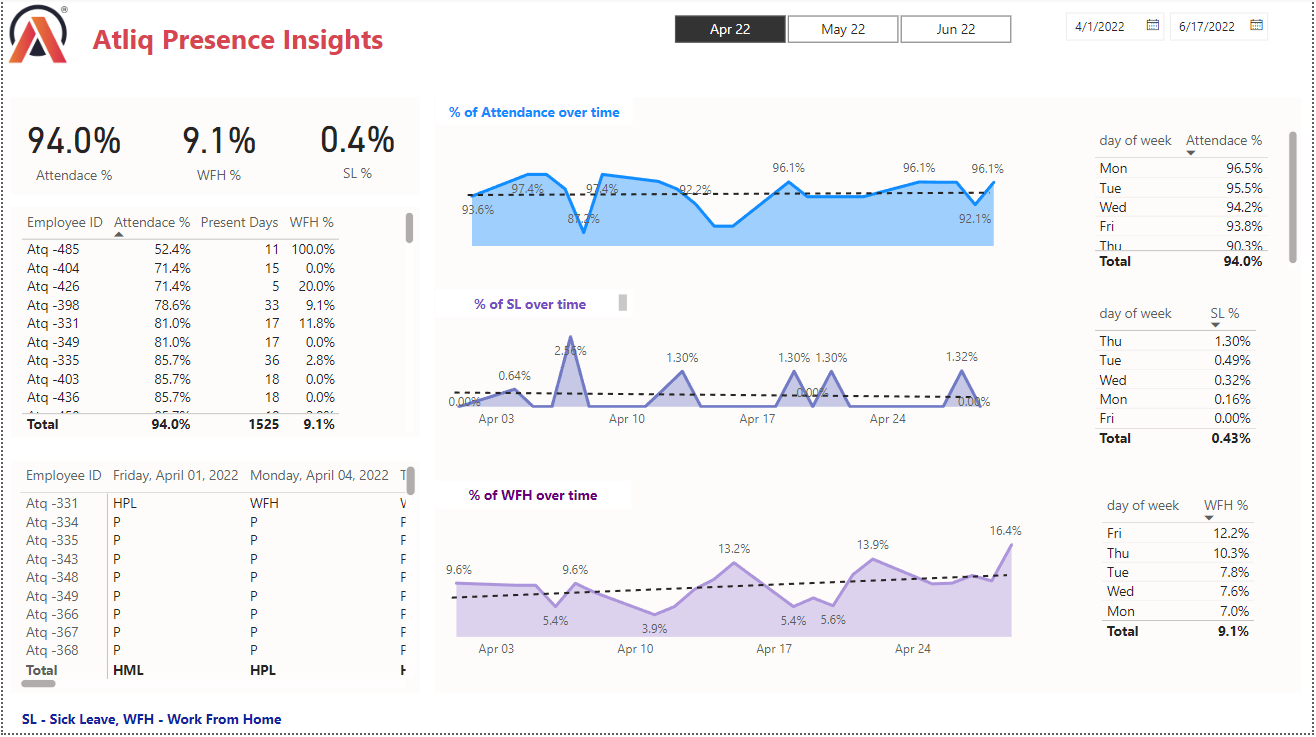

Layout of this report page (visuals, bound fields, positions):
{"tool":"powerbi","page":{"name":"Presence Insights","canvas":[1280,720],"ordinal":0},"visuals":[{"type":"textbox","box":[7.8,205.6,399.9,225.5],"z":0},{"type":"textbox","box":[7.8,453.3,399.8,227.6],"z":1000},{"type":"textbox","box":[422.3,97.9,848.1,582.3],"z":2000},{"type":"textbox","box":[7.8,98,399.9,95.4],"z":3000},{"type":"tableEx","fields":{"Values":["Final Data.Employee ID","Measures (2).Attendace %","Measures (2).Present Days","Measures (2).WFH %"]},"box":[12.6,205.2,394.9,225.7],"z":4000},{"type":"slicer","fields":{"Values":["Final Data.Date"]},"box":[1027.3,5.2,252.7,46.3],"z":5000},{"type":"slicer","fields":{"Values":["Final Data.MMM YY"]},"box":[630.4,10.5,379.5,35.8],"z":6000},{"type":"areaChart","fields":{"Category":["Final Data.MMM YY","Final Data.Date"],"Y":["Measures (2).WFH %"]},"box":[420.7,502.3,589,153.5],"z":7000},{"type":"areaChart","fields":{"Category":["Final Data.WeekNo","Final Data.Date"],"Y":["Measures (2).Attendace %"]},"box":[444.1,144.9,540.4,103.2],"z":8000},{"type":"card","fields":{"Values":["Measures (2).Attendace %"]},"box":[7.8,98,124,96.3],"z":9000},{"type":"card","fields":{"Values":["Measures (2).WFH %"]},"box":[141.4,98,138.8,96.3],"z":10000},{"type":"areaChart","fields":{"Category":["Final Data.MMM YY","Final Data.Date"],"Y":["Measures (2).SL %"]},"box":[422.5,307.1,556,124],"z":11000},{"type":"image","box":[0,0,70,71],"z":12000},{"type":"card","fields":{"Values":["Measures (2).SL %"]},"box":[286.3,97.2,121.4,96.3],"z":13000},{"type":"textbox","box":[70.3,0,320.1,71.1],"z":14000},{"type":"textbox","box":[422.4,98.2,192.5,27.5],"z":15000},{"type":"textbox","box":[422.5,286.3,192.6,26.9],"z":16000},{"type":"textbox","box":[422.1,473.7,192.6,27.2],"z":17000},{"type":"pivotTable","fields":{"Rows":["Final Data.Employee ID"],"Columns":["Final Data.Date"],"Values":["Min(Final Data.Value)"]},"box":[11.7,453.3,395.9,227.6],"z":18000},{"type":"textbox","box":[13.6,691.6,289.8,28.2],"z":19000},{"type":"tableEx","fields":{"Values":["Final Data.day of week","Measures (2).Attendace %"]},"box":[1060.9,125.8,209.9,145.7],"z":20000},{"type":"tableEx","fields":{"Values":["Final Data.day of week","Measures (2).SL %"]},"box":[1060.9,294.1,191.7,167.4],"z":21000},{"type":"tableEx","fields":{"Values":["Final Data.day of week","Measures (2).WFH %"]},"box":[1068.7,483.2,170,167.4],"z":22000}]}

Visuals, with their boxes in screenshot pixels (x1, y1, x2, y2), scaled from the page's 1280x720 canvas onto the 1316x737 screenshot:
textbox: region(8, 210, 419, 441)
textbox: region(8, 464, 419, 697)
textbox: region(434, 100, 1306, 696)
textbox: region(8, 100, 419, 198)
tableEx - Final Data.Employee ID x Measures (2).Attendace %: region(13, 210, 419, 441)
slicer - Final Data.Date: region(1056, 5, 1315, 53)
slicer - Final Data.MMM YY: region(648, 11, 1038, 47)
areaChart - Final Data.MMM YY x Final Data.Date: region(433, 514, 1038, 671)
areaChart - Final Data.WeekNo x Final Data.Date: region(457, 148, 1012, 254)
card - Measures (2).Attendace %: region(8, 100, 136, 199)
card - Measures (2).WFH %: region(145, 100, 288, 199)
areaChart - Final Data.MMM YY x Final Data.Date: region(434, 314, 1006, 441)
image: region(0, 0, 72, 73)
card - Measures (2).SL %: region(294, 99, 419, 198)
textbox: region(72, 0, 401, 73)
textbox: region(434, 101, 632, 129)
textbox: region(434, 293, 632, 321)
textbox: region(434, 485, 632, 513)
pivotTable - Final Data.Employee ID x Final Data.Date: region(12, 464, 419, 697)
textbox: region(14, 708, 312, 736)
tableEx - Final Data.day of week x Measures (2).Attendace %: region(1091, 129, 1307, 278)
tableEx - Final Data.day of week x Measures (2).SL %: region(1091, 301, 1288, 472)
tableEx - Final Data.day of week x Measures (2).WFH %: region(1099, 495, 1274, 666)
